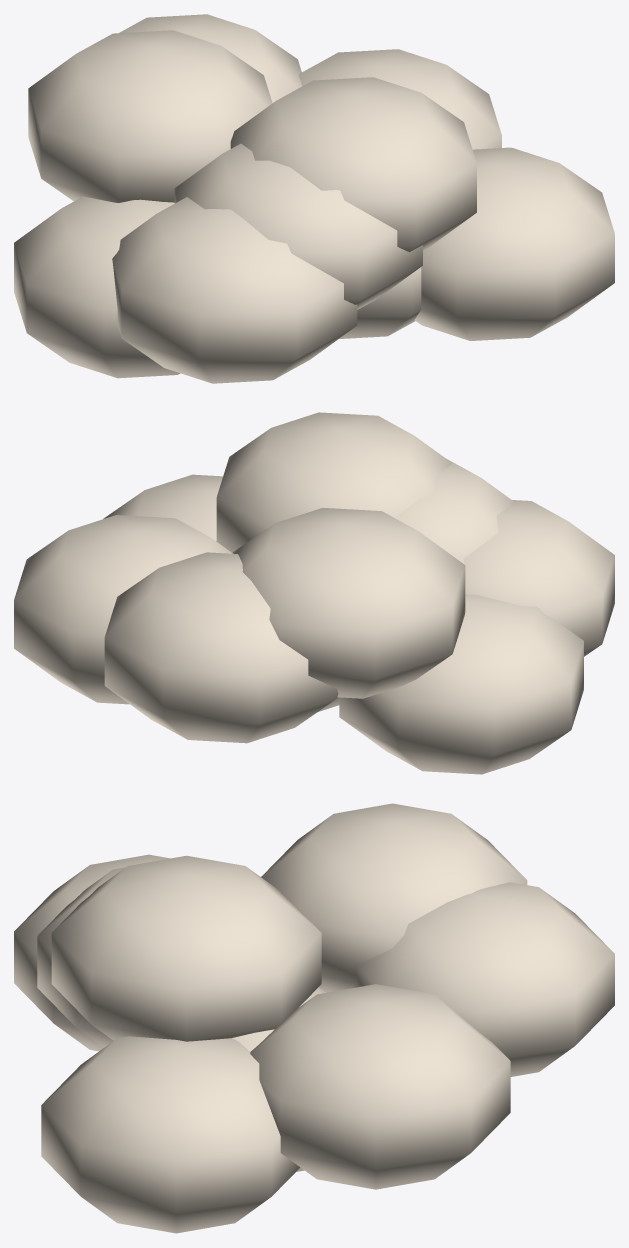
Rendered from fur_tuft.glb.
The picture shows the model from 3 angles, top to bottom: view 1: azimuth 30°, elevation 25°; view 2: azimuth 150°, elevation 25°; view 3: azimuth 270°, elevation 25°; orthographic projection. The views are drawn at different scales.
Visible parts, largest first — view 1: Tuft0; view 2: Tuft0; view 3: Tuft0.
Boxes of the visible parts, left/top/right/bottom form: Tuft0: left=14, top=14, right=614, bottom=383; Tuft0: left=14, top=412, right=614, bottom=774; Tuft0: left=14, top=803, right=614, bottom=1233.
Bounding box in the file's own units: 0.4488 × 0.211 × 0.4239.
